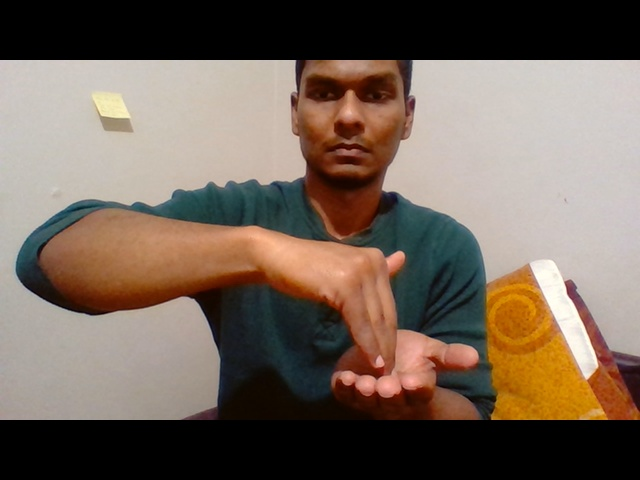ExcuseMe: (247, 217, 482, 414)
